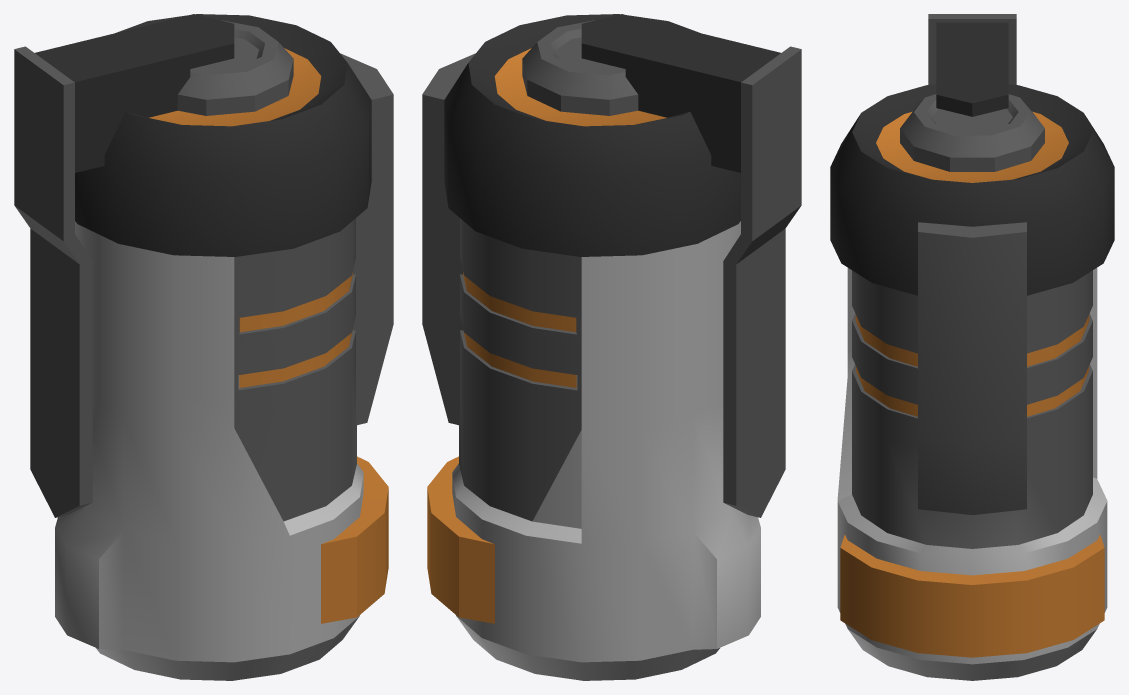
The model's file is grenade.gltf.
3 views of the same model, side by side, from view 1: azimuth 30°, elevation 25°; view 2: azimuth 150°, elevation 25°; view 3: azimuth 270°, elevation 25° (orthographic). The views are drawn at different scales.
Parts seen in each view (by area): view 1: Grenade; view 2: Grenade; view 3: Grenade.
Boxes of the visible parts, x1,y1,x2,y2 form: Grenade: (14, 14, 393, 680); Grenade: (422, 14, 801, 680); Grenade: (830, 14, 1114, 680).
Size of the model in its own units: 0.1785 by 0.3033 by 0.1447.
